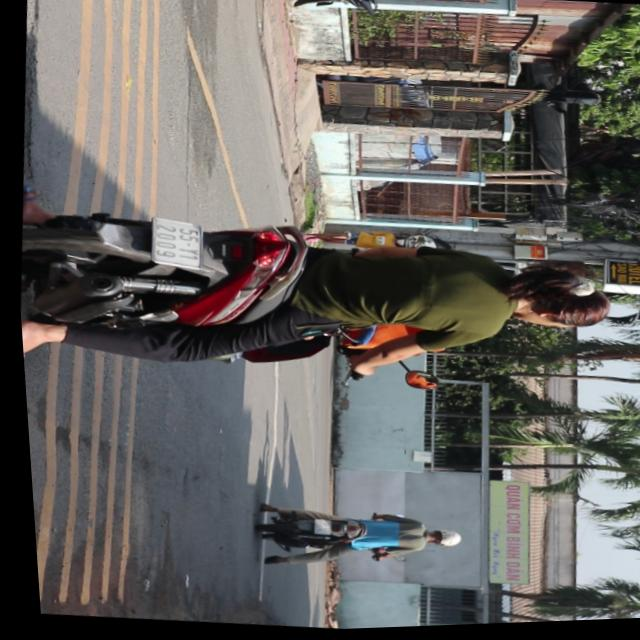licenseplate: (10, 182, 622, 416)
motorcyclist: (487, 262, 614, 340)
nohelmet: (148, 216, 203, 268)
